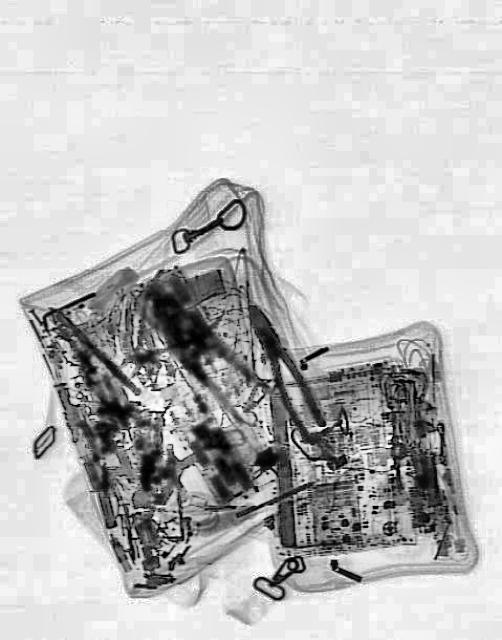Pliers: (130, 267, 272, 431), (236, 296, 330, 442)
